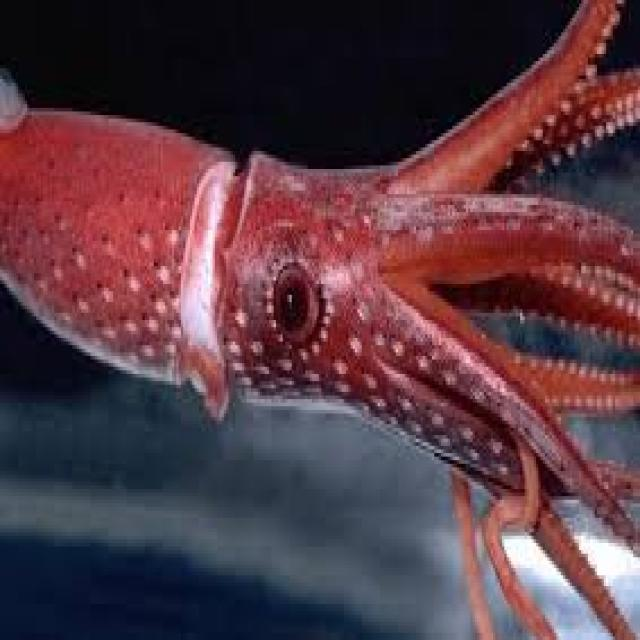squid: (0, 0, 638, 636)
